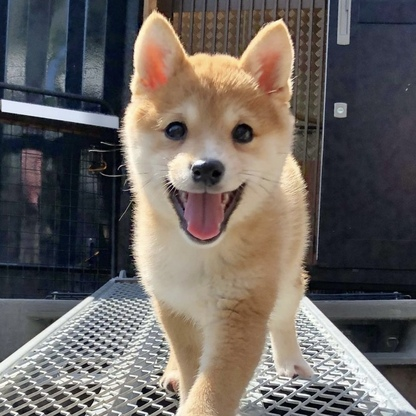shiba: (114, 7, 325, 416)
